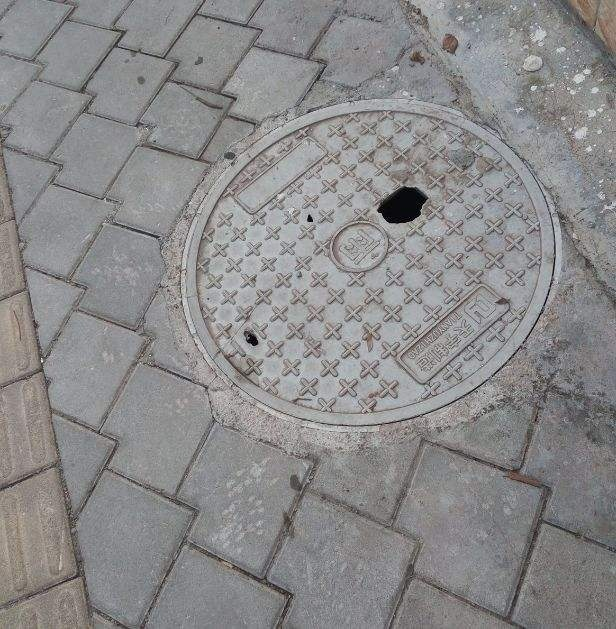broke: (177, 100, 557, 430)
